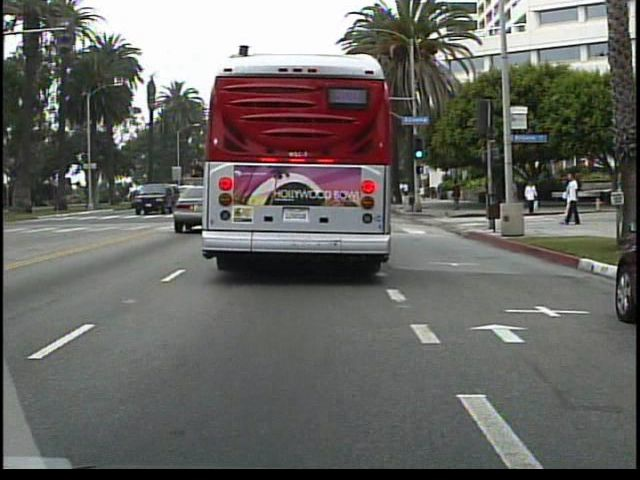person: (565, 168, 586, 225), (523, 178, 542, 216), (450, 175, 466, 215), (504, 177, 521, 213)
